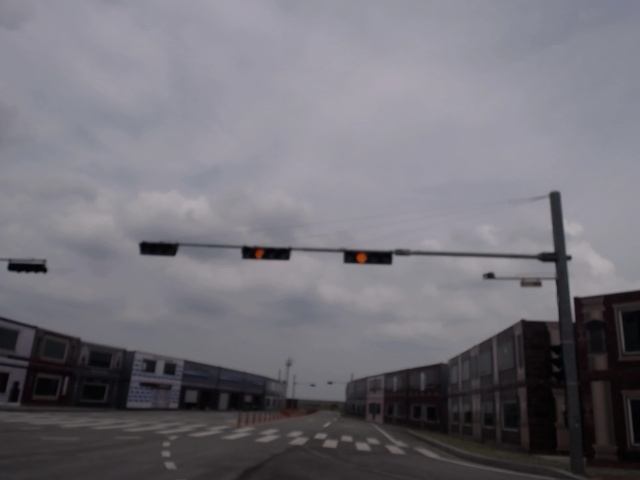orange_4: (342, 247, 395, 268), (238, 245, 294, 263)
